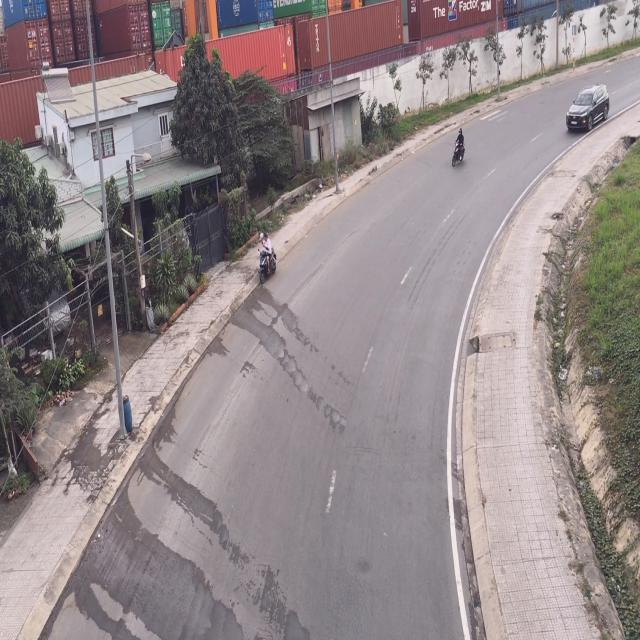car: (566, 84, 610, 134)
motorbike: (260, 233, 280, 284), (449, 126, 467, 170)
